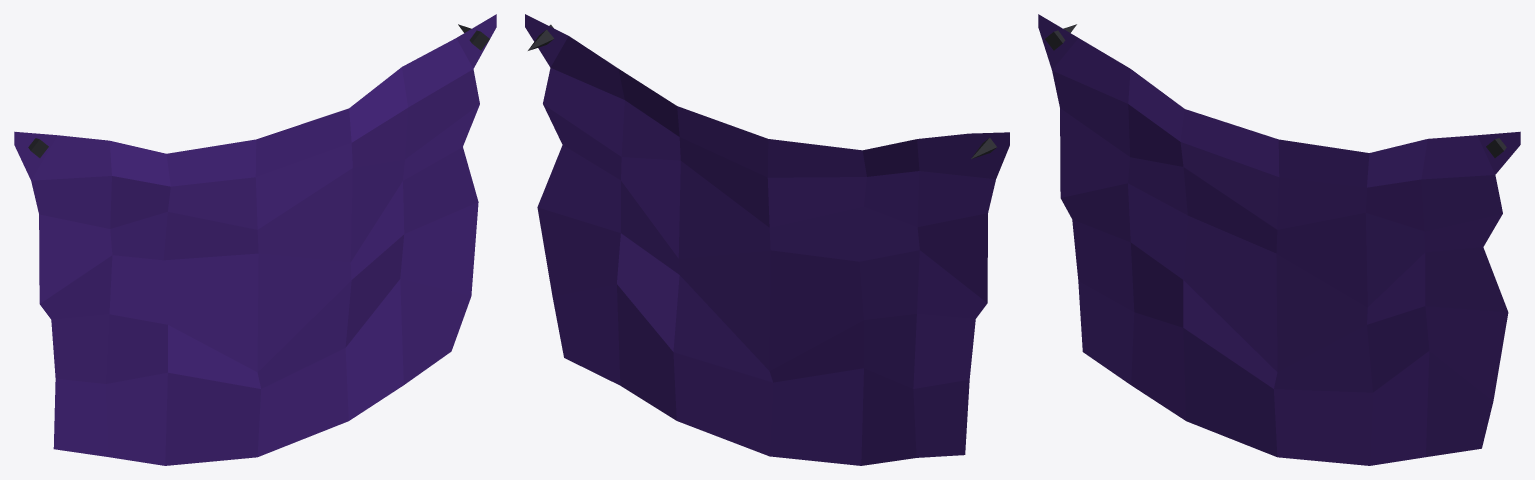
The model's file is Cloth_3.fbx.
3 views of the same model, side by side, from view 1: azimuth 30°, elevation 25°; view 2: azimuth 150°, elevation 25°; view 3: azimuth 330°, elevation 25° (orthographic).
Visible parts, largest first — view 1: pCube2446; view 2: pCube2446; view 3: pCube2446.
Part boxes in pixels (x1=…): pCube2446: x1=14, y1=14, x2=496, y2=465; pCube2446: x1=525, y1=14, x2=1009, y2=465; pCube2446: x1=1038, y1=14, x2=1520, y2=465.
Bounding box in the file's own units: 271 × 205 × 24.87.
